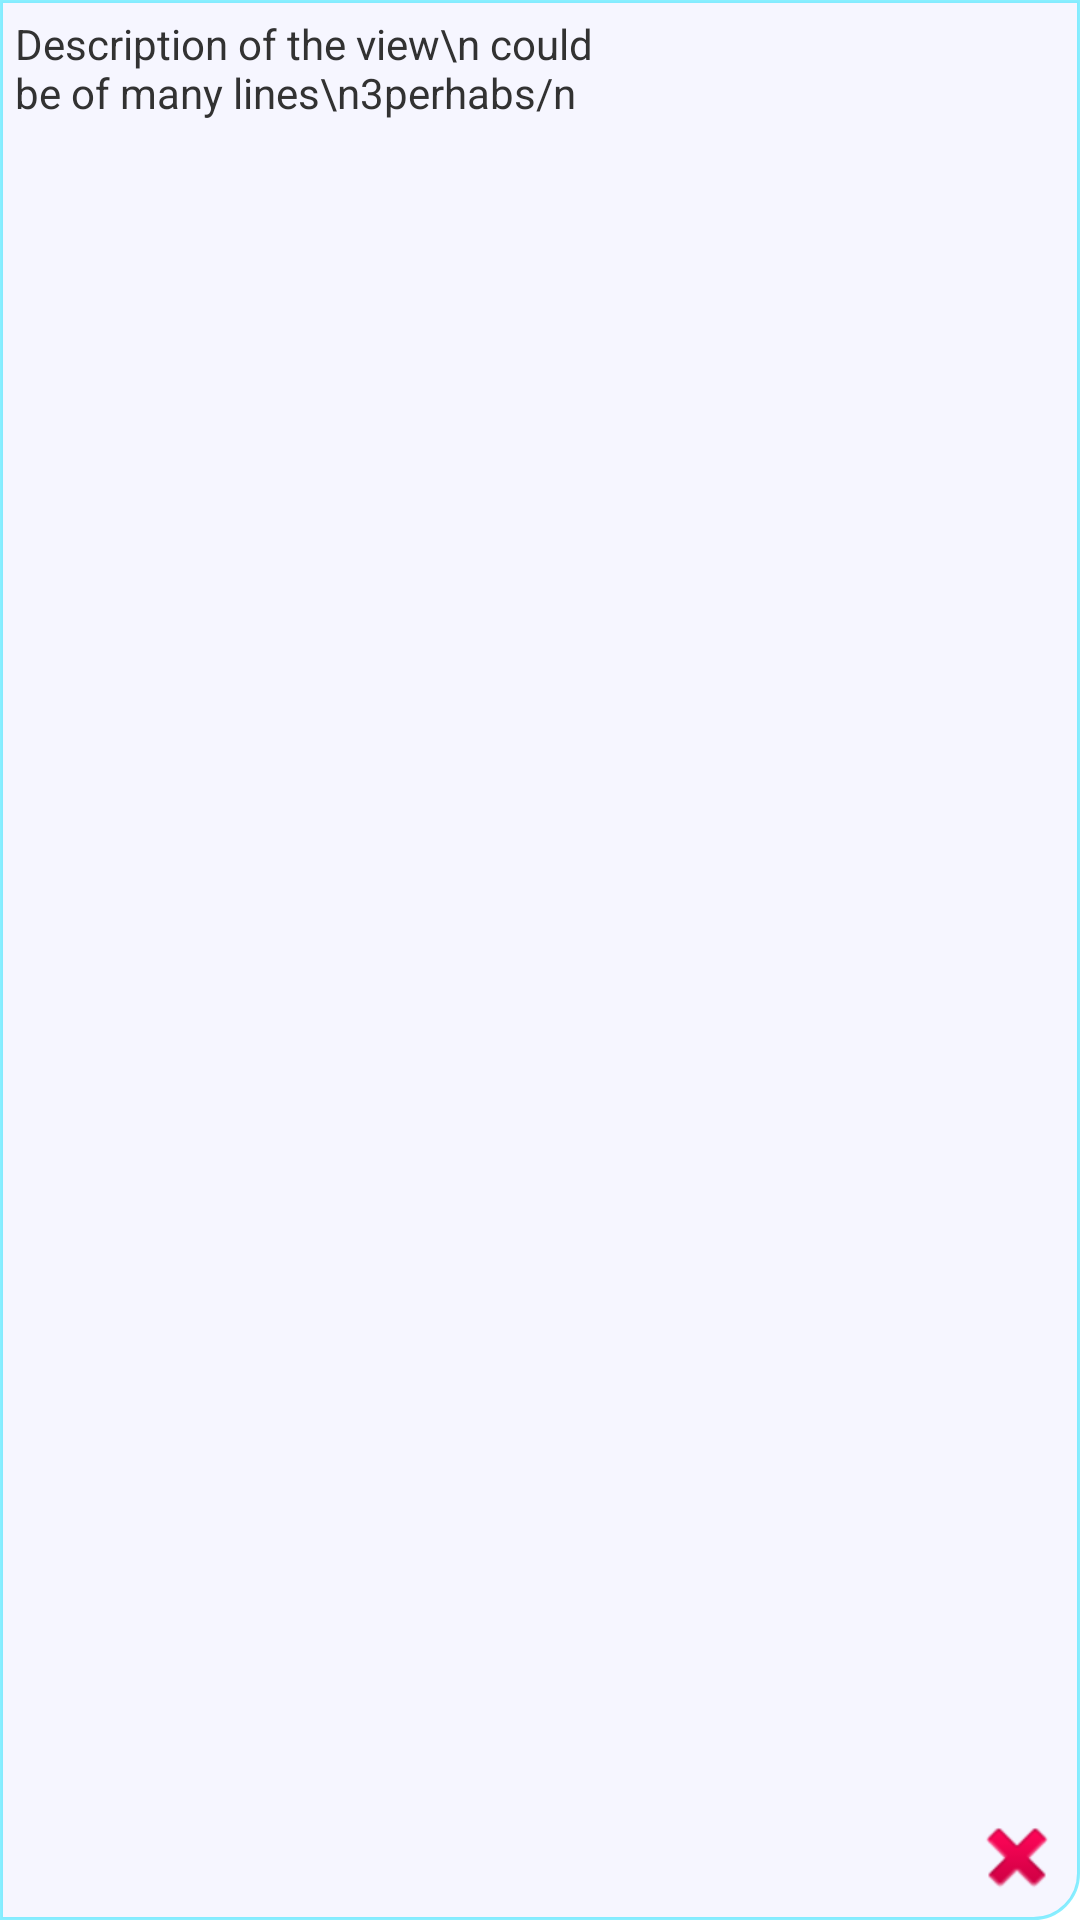

Screen size 1080x1920. Icon name, then its box in pixels as (left=x1, top=y1, right=x2, bottom=y2):
delete: (left=986, top=1828, right=1048, bottom=1887)
